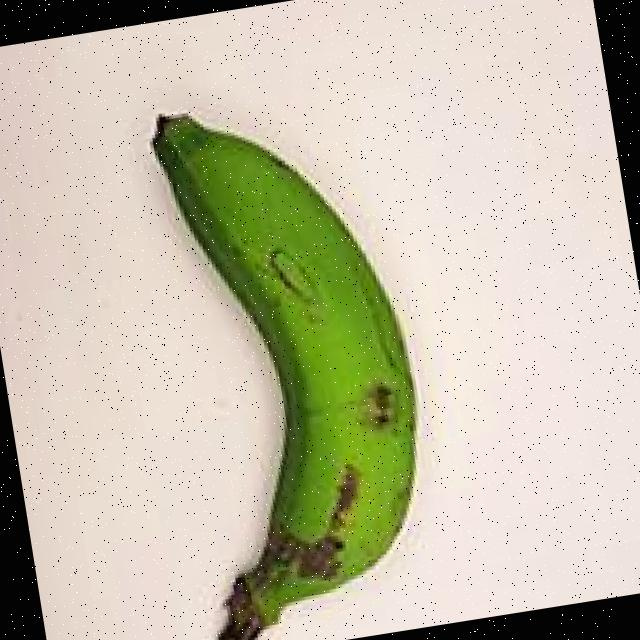Raw: (81, 55, 492, 640)
